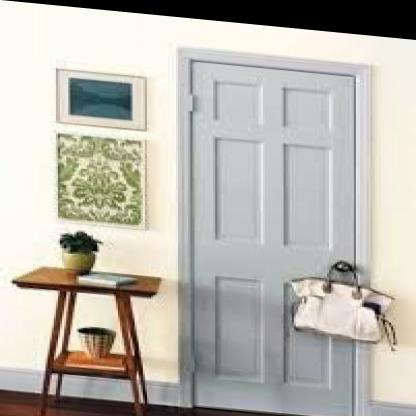door: (175, 51, 371, 415)
